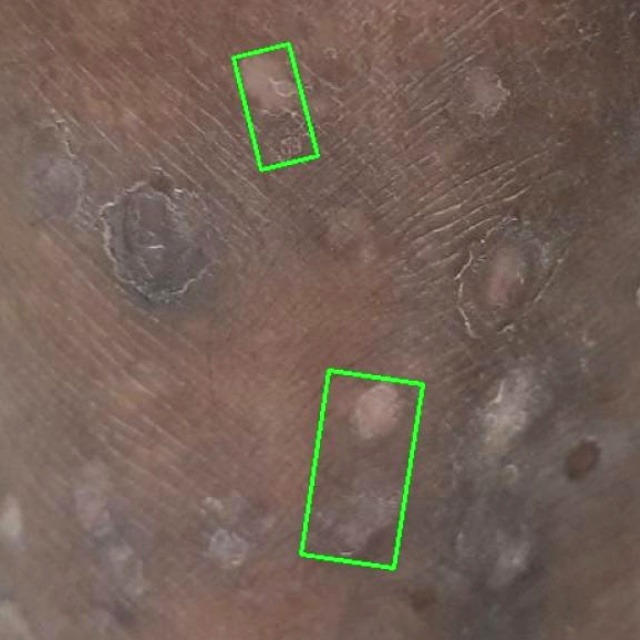Contact Dermatitis: (301, 370, 423, 569), (233, 43, 317, 169)
